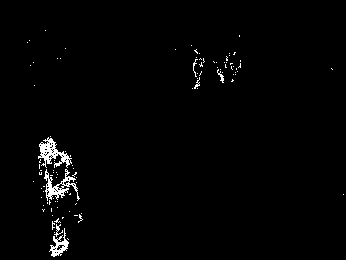person: (37, 138, 84, 258)
